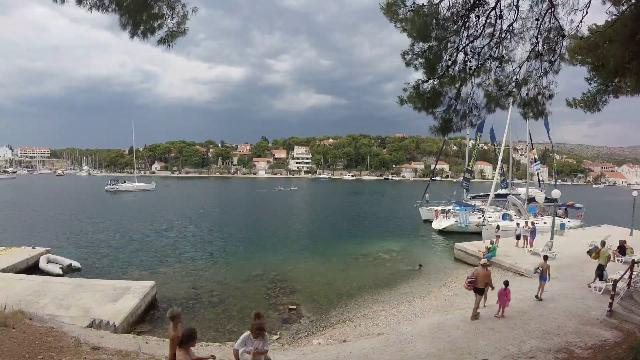Sailboat: (101, 173, 157, 193)
